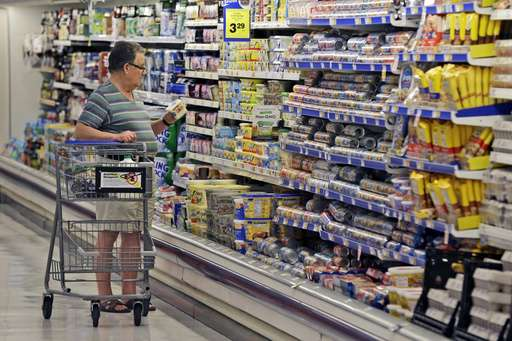Age_above_50: (109, 40, 150, 90)
E_White: (109, 40, 150, 90)
Emotion_Neutral: (109, 40, 150, 90)
G_Male: (109, 40, 150, 90)
